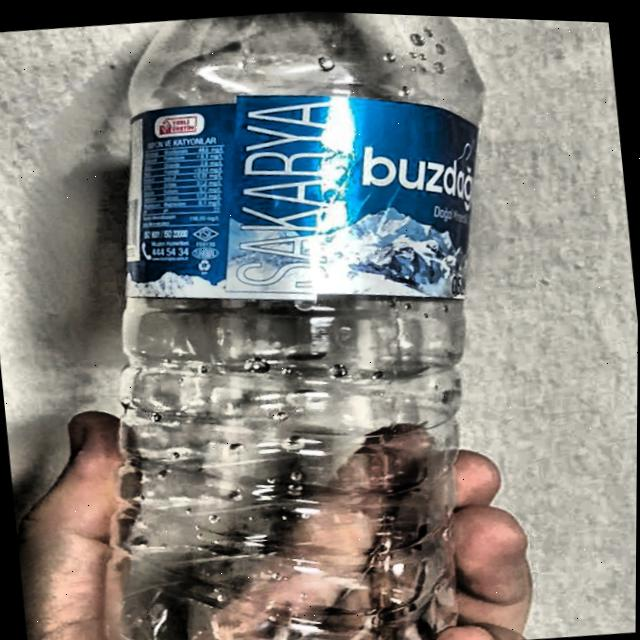plastic: (108, 9, 478, 640)
